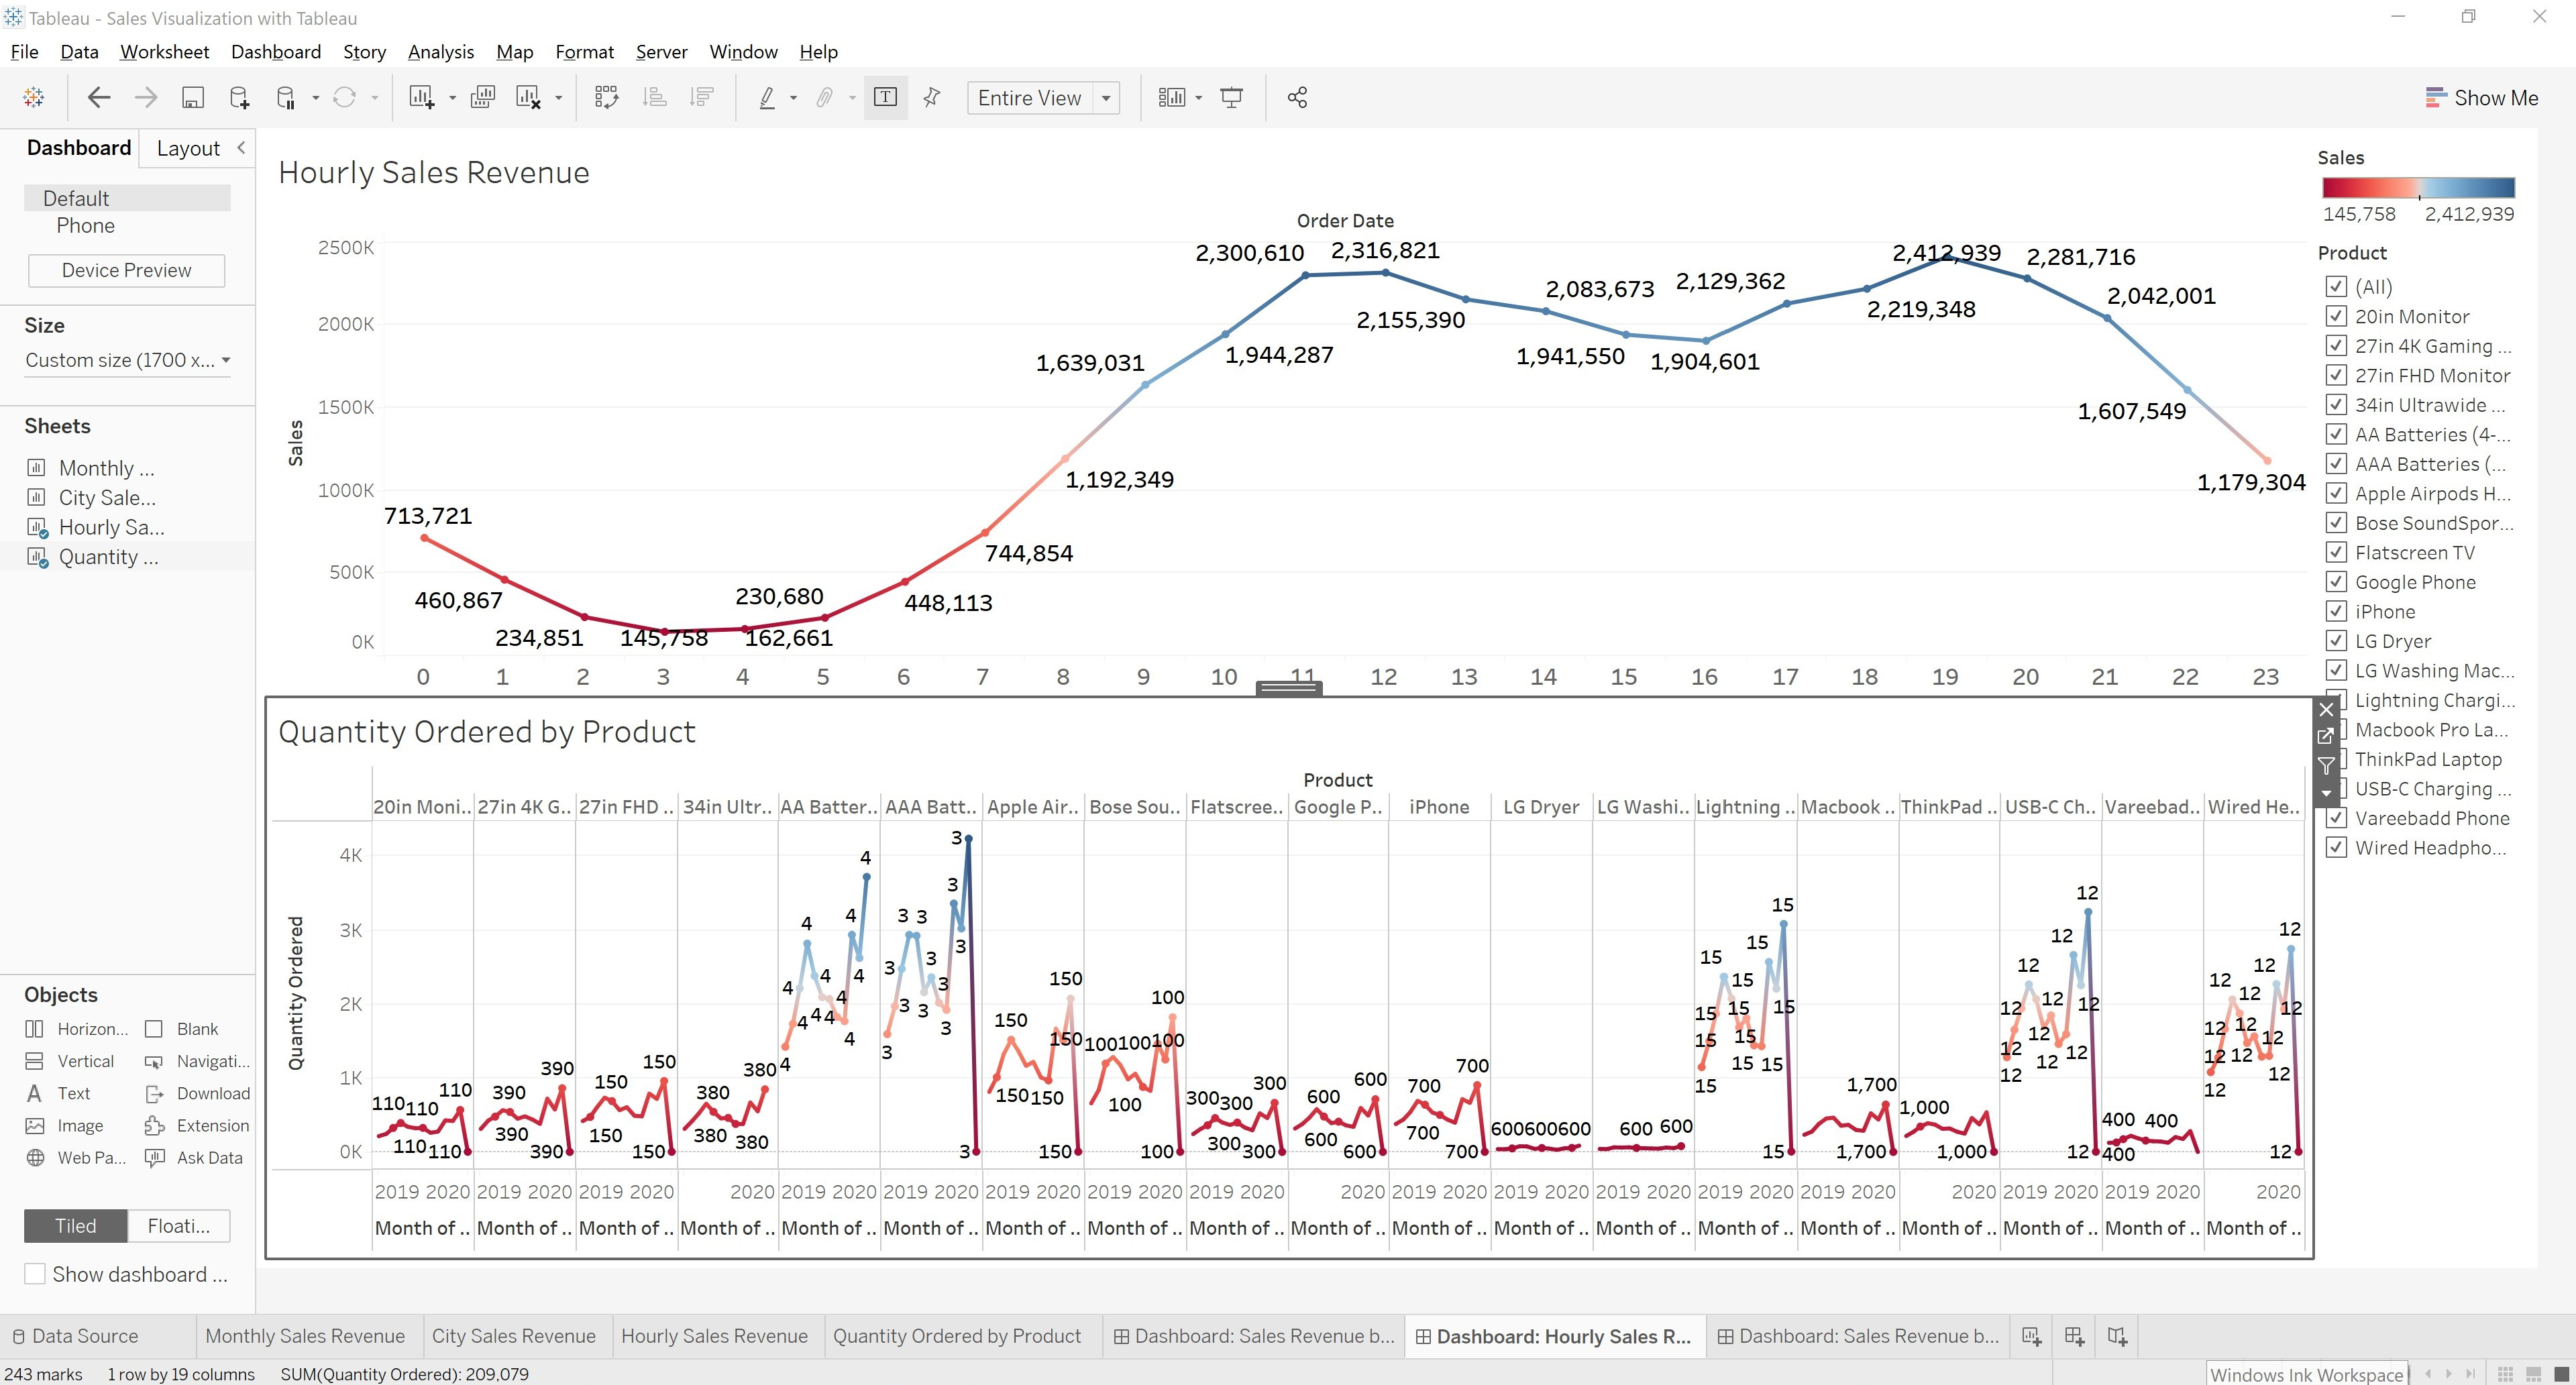

What the dashboard file says about the page in this screenshot:
{"tool":"tableau","page":{"name":"Dashboard: Hourly Sales Revenue and Quantity Ordered by Product","canvas":[1700,850],"ordinal":0},"visuals":[{"type":"worksheet","title":"Hourly Sales Revenue","mark":"Automatic","rows":["Sales"],"cols":["Order Date"],"box":[8,8,1524,417]},{"type":"legend","title":"Hourly Sales Revenue","param":"[federated.0ngyhyb0e0siqk19xj7q51w0hanr].[sum:Sales:qk]","box":[1532,8,160,71]},{"type":"filter","title":"Quantity Ordered by Product","param":"[federated.0ngyhyb0e0siqk19xj7q51w0hanr].[none:Product:nk]","box":[1532,79,160,475]},{"type":"worksheet","title":"Quantity Ordered by Product","mark":"Automatic","rows":["Quantity Ordered"],"cols":["Product","Order Date"],"box":[8,425,1524,417]}]}

Visuals, with their boxes on the page's 1700x850 design canvas (x1, y1, x2, y2). These are canvas units, not pixel positions in the 2576x1385 screenshot, which may show the page scaled, cropped or inside an application window:
"Hourly Sales Revenue" worksheet: Rect(8, 8, 1532, 425)
"Hourly Sales Revenue" legend: Rect(1532, 8, 1692, 79)
"Quantity Ordered by Product" filter: Rect(1532, 79, 1692, 554)
"Quantity Ordered by Product" worksheet: Rect(8, 425, 1532, 842)
